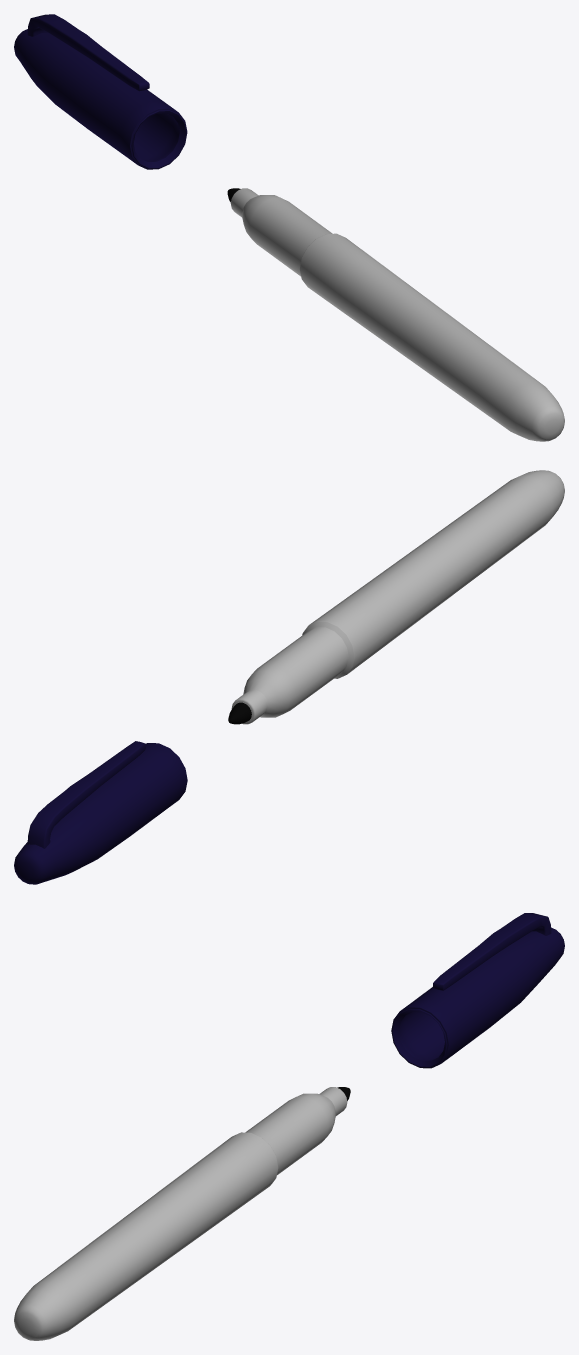
File: Rotulador.fbx
3 renders of one model, top to bottom at view 1: azimuth 30°, elevation 25°; view 2: azimuth 150°, elevation 25°; view 3: azimuth 330°, elevation 25°, orthographic.
Parts seen in each view (by area): view 1: Marker, Tapon; view 2: Marker, Tapon; view 3: Marker, Tapon.
Part boxes in pixels (bbox=[...]): Marker: bbox=[230, 188, 564, 441]; Tapon: bbox=[14, 14, 187, 169]; Marker: bbox=[231, 470, 564, 724]; Tapon: bbox=[14, 741, 187, 884]; Marker: bbox=[14, 1087, 347, 1340]; Tapon: bbox=[391, 913, 564, 1068].
Bounding box in the file's own units: 93.58 × 115 × 1460.
